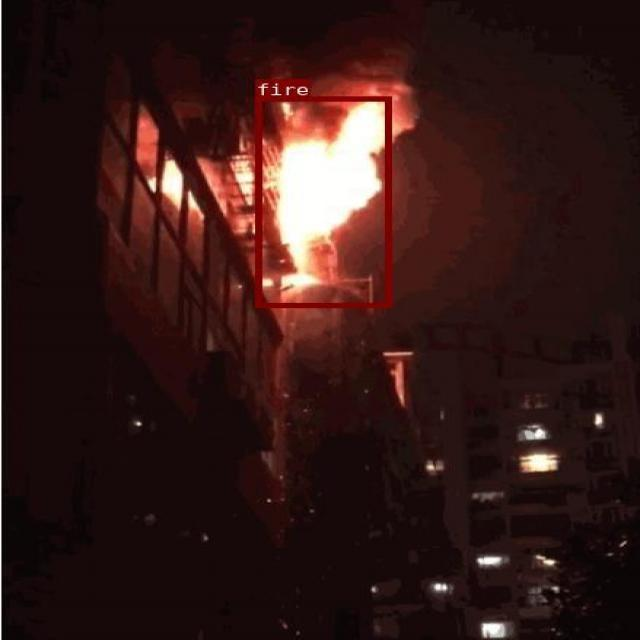fire: (254, 95, 390, 307)
